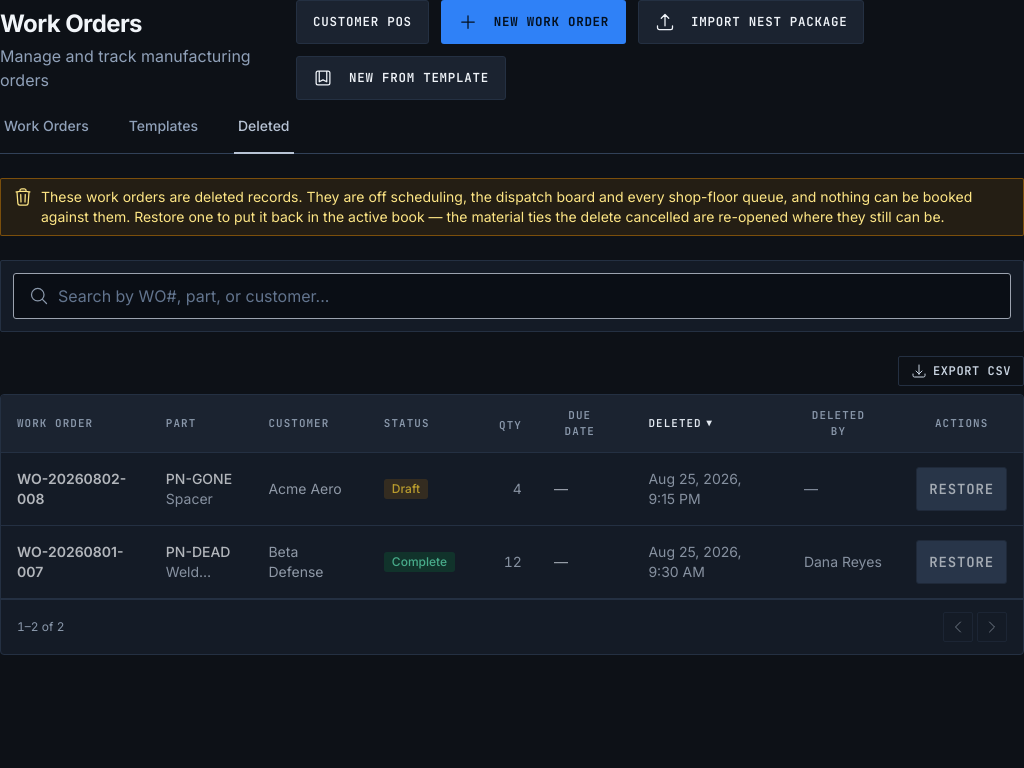
Test: WorkOrders: restoring is confirmed, non-optimistic, and honest about partials › confirms first, holds the row through the flight, and drops it only after the server answers
Click the button "Restore" in the row of "WO-20260802-008" at (962, 489), box x1=916 y1=467 x2=1007 y2=511
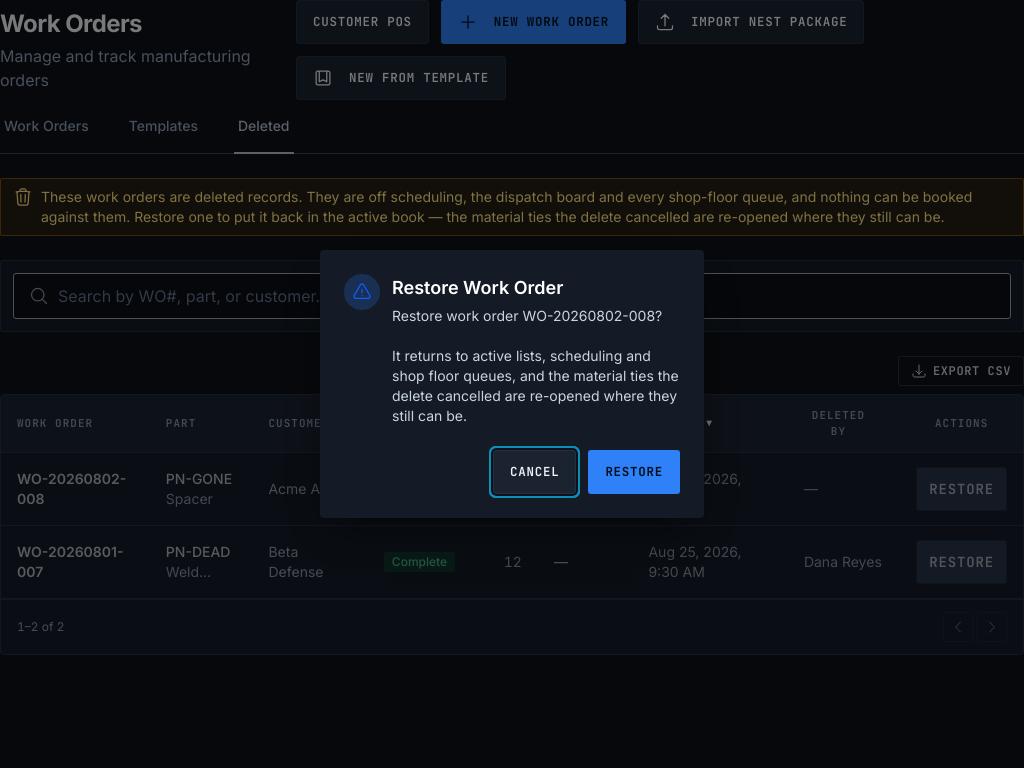
Click the button "Restore" at (634, 472), box x1=588 y1=450 x2=680 y2=494
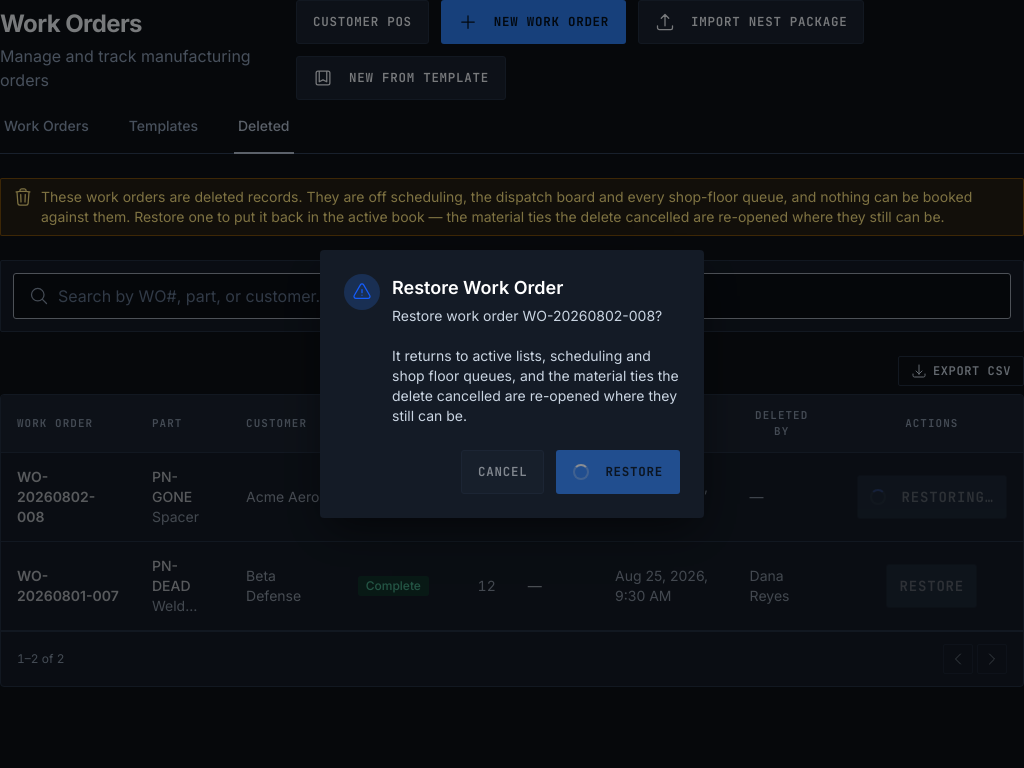
Expected: the text "WO-20260802-008" is shown, x1=17 y1=468 x2=95 y2=525
Expected: the dialog is shown, x1=320 y1=250 x2=704 y2=518
Expected: the button "Restore" is disabled
Click the button "Restore" at (618, 472), box x1=556 y1=450 x2=680 y2=494
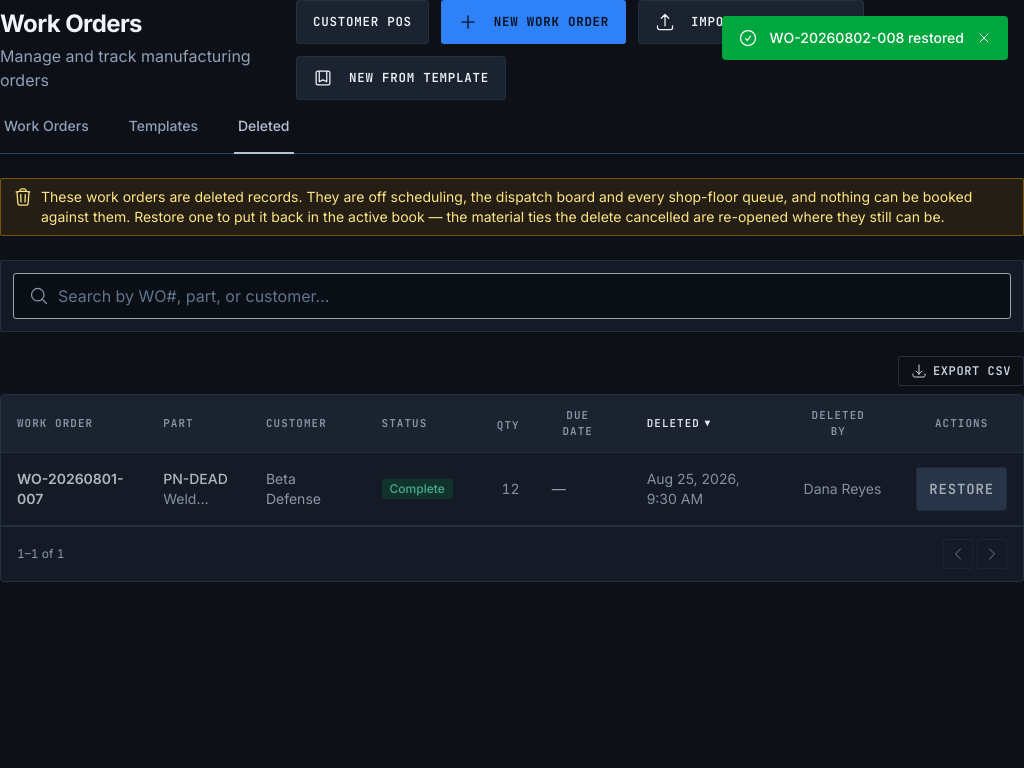
Expected: the text "WO-20260801-007" is shown, x1=17 y1=470 x2=124 y2=507
Expected: the dialog is gone
Expected: the message "WO-20260802-008 restored" is shown, x1=722 y1=16 x2=1008 y2=60
